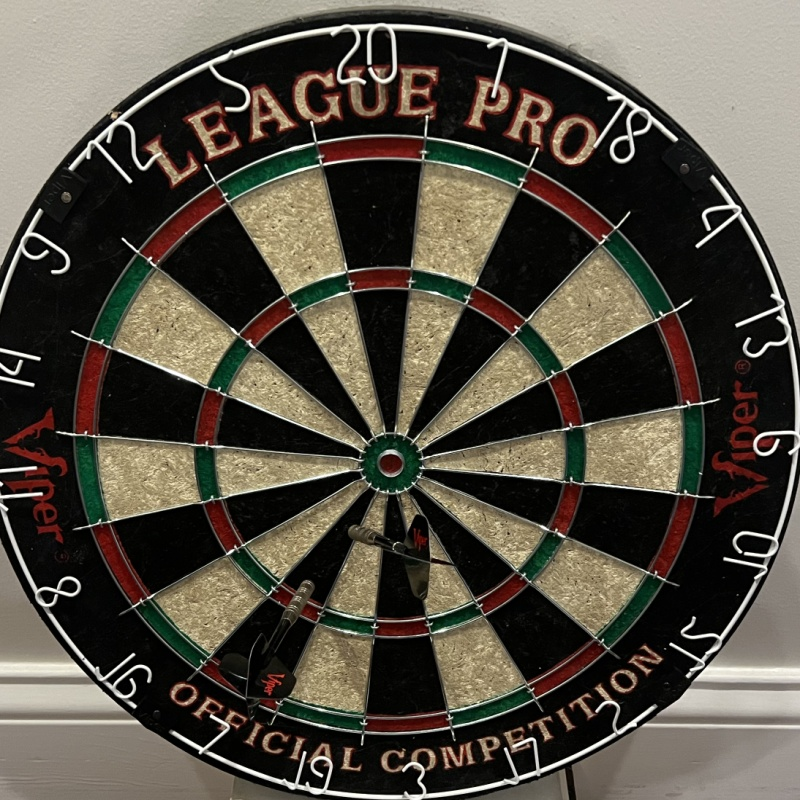dart: (298, 568, 325, 594), (345, 518, 363, 542)
six: (755, 430, 800, 455)
three: (402, 762, 430, 800)
twenty: (334, 23, 400, 85)
